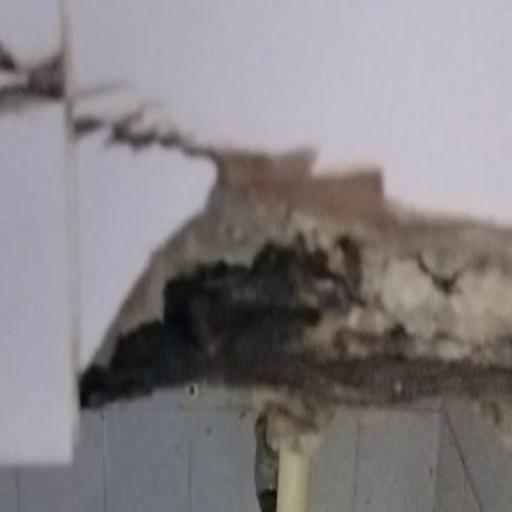spalling: (68, 102, 512, 442)
